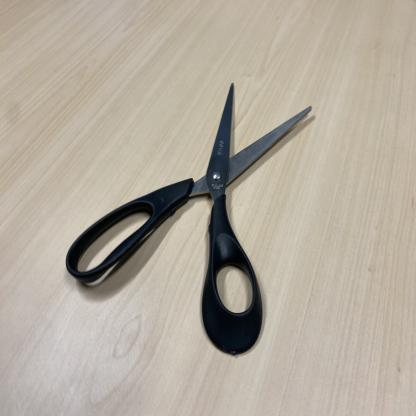scissors: (66, 83, 312, 355)
